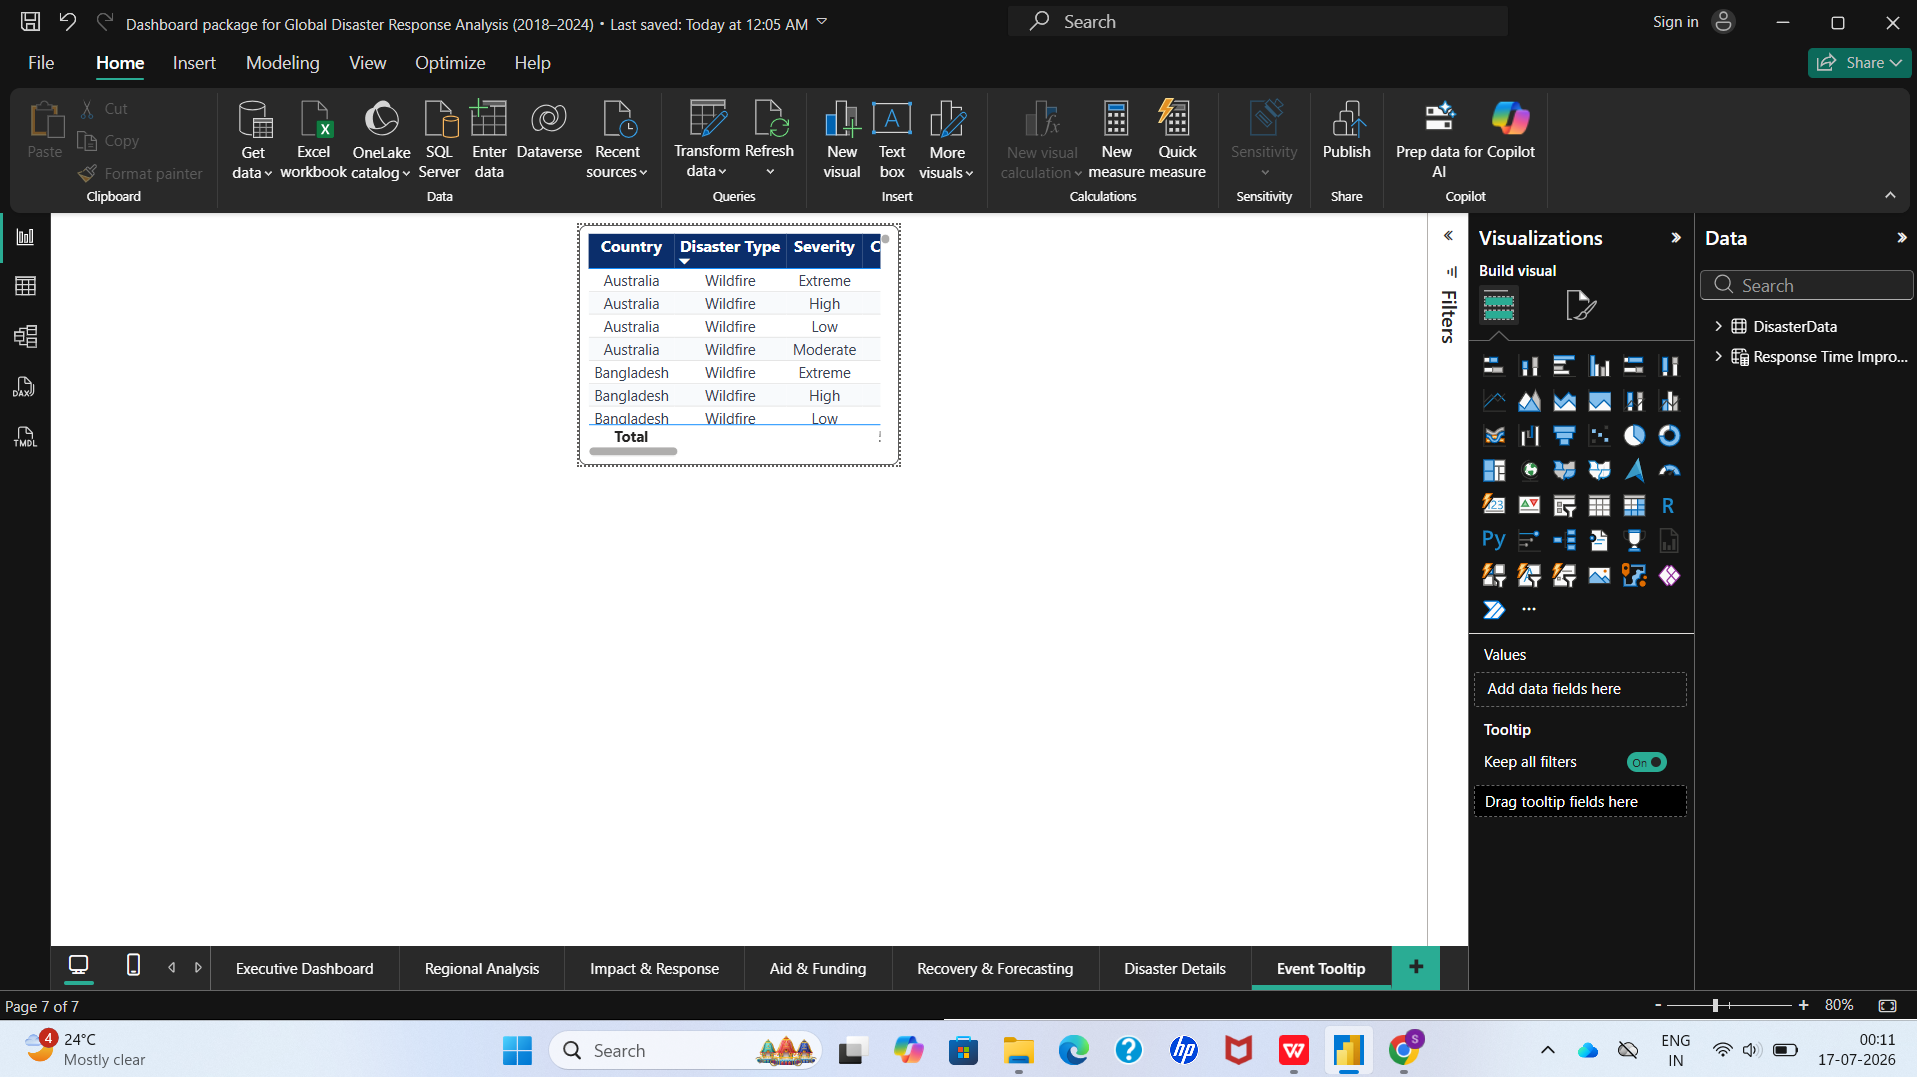

What the dashboard file says about the page in this screenshot:
{"tool":"powerbi","page":{"name":"Event Tooltip","canvas":[320,240],"ordinal":6},"visuals":[{"type":"tableEx","fields":{"Values":["DisasterData.Country","DisasterData.Disaster_Type","DisasterData.Severity Category","Sum(DisasterData.casualties)","Sum(DisasterData.economic_loss_usd)","Sum(DisasterData.aid_amount_usd)","Sum(DisasterData.response_time_hours)","Sum(DisasterData.recovery_days)"]},"box":[0,0,320,240],"z":0}]}

Visuals, with their boxes in screenshot pixels (x1, y1, x2, y2):
tableEx - DisasterData.Country x DisasterData.Disaster_Type: bbox=[45, 0, 1463, 1018]
